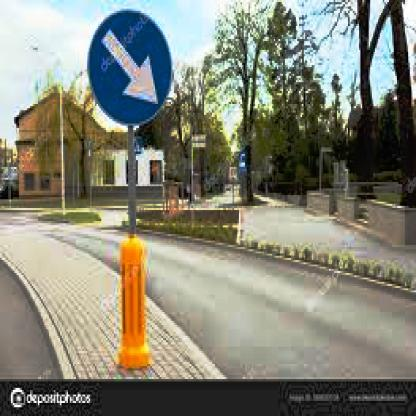Keep right: (89, 11, 172, 130)
